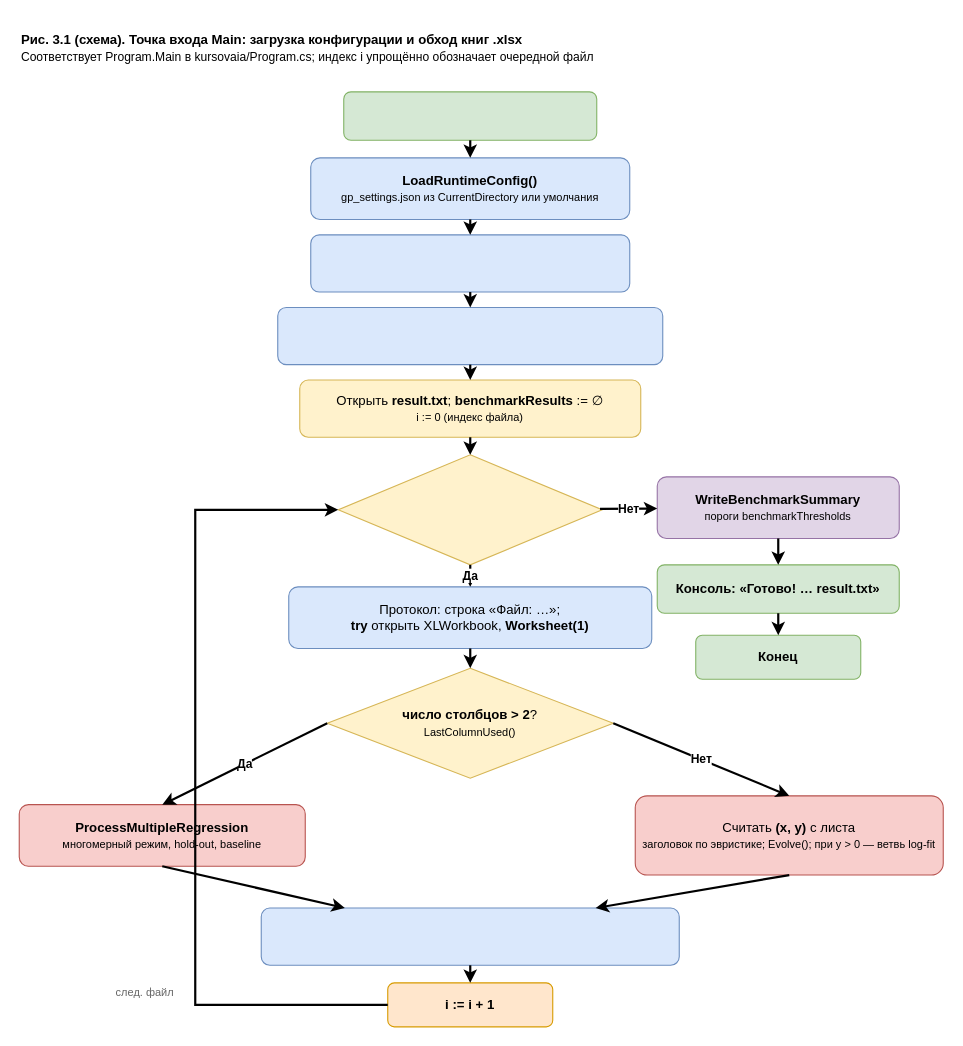
The diagram is 963 pixels wide and 1046 high, and some of its shapes have lost their labels. Each missing label, with the centre of its shape:
"i < excelFiles.Length ?" belongs at (x=469, y=509).
"SetExternalProfileOverrides профили GP из JSON (GpProfiles)" belongs at (x=470, y=263).
"Начало Main()" belongs at (x=470, y=115).
"При успехе: добавить (RMSE, yRange) в словарь; catch : сообщение об ошибке" belongs at (x=469, y=936).
"Список путей: *.xlsx в CurrentDirectory исключить имена ~$*; сортировка по имени" belongs at (x=470, y=335).
